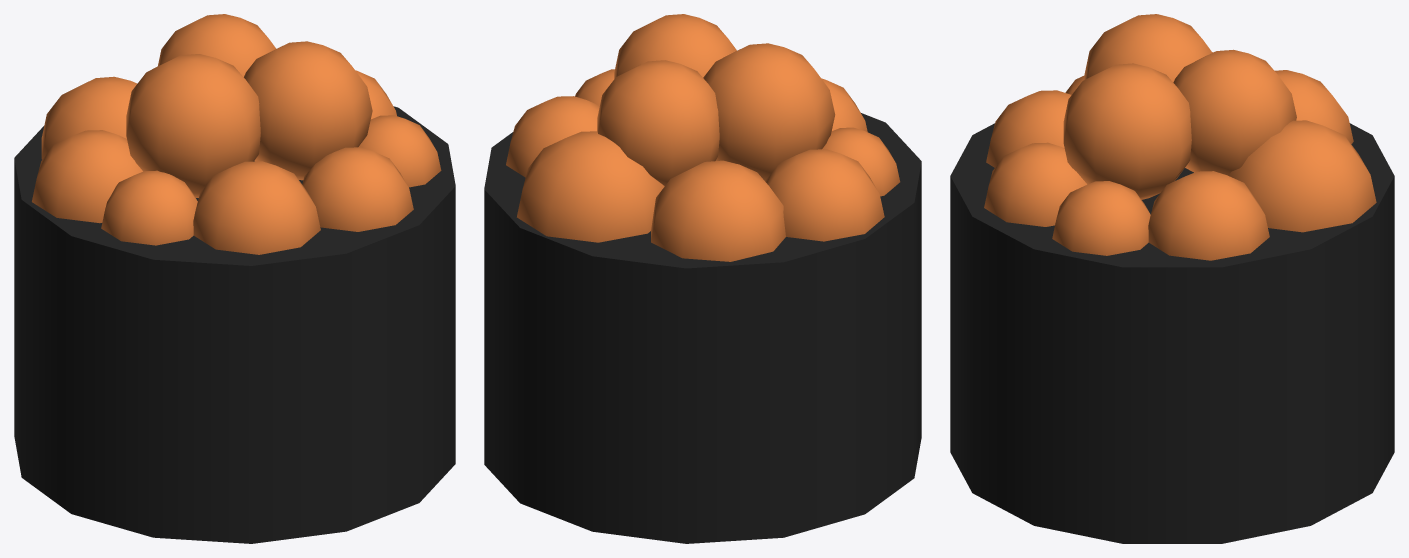
The model's file is Sea Urchin Roll.glb.
3 renders of one model, left to right at view 1: azimuth 30°, elevation 25°; view 2: azimuth 150°, elevation 25°; view 3: azimuth 270°, elevation 25°, orthographic.
Parts seen in each view (by area): view 1: Food_SeaUrchinRoll; view 2: Food_SeaUrchinRoll; view 3: Food_SeaUrchinRoll.
Boxes of the visible parts, x1,y1,x2,y2 form: Food_SeaUrchinRoll: (14, 14, 455, 543); Food_SeaUrchinRoll: (484, 14, 921, 543); Food_SeaUrchinRoll: (950, 14, 1394, 543).
Bounding box in the file's own units: 0.4928 × 0.5114 × 0.5055.
1 material, 1 textured.
